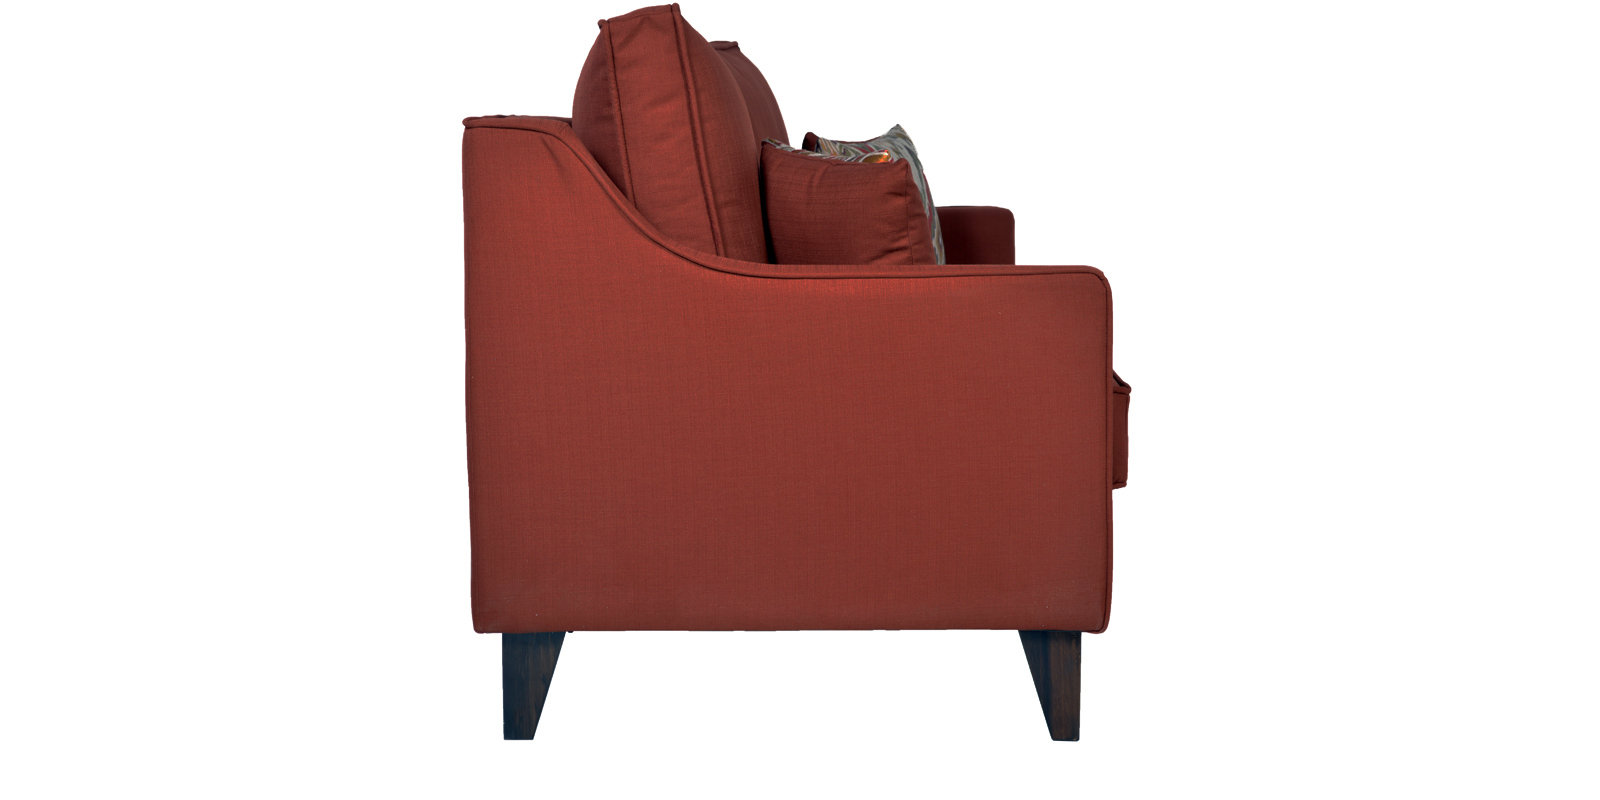Ithaca Impulse Three Seater Sofa with Throw Cushions in Burnt Sienna Colour by U: (434, 1, 1172, 793)
